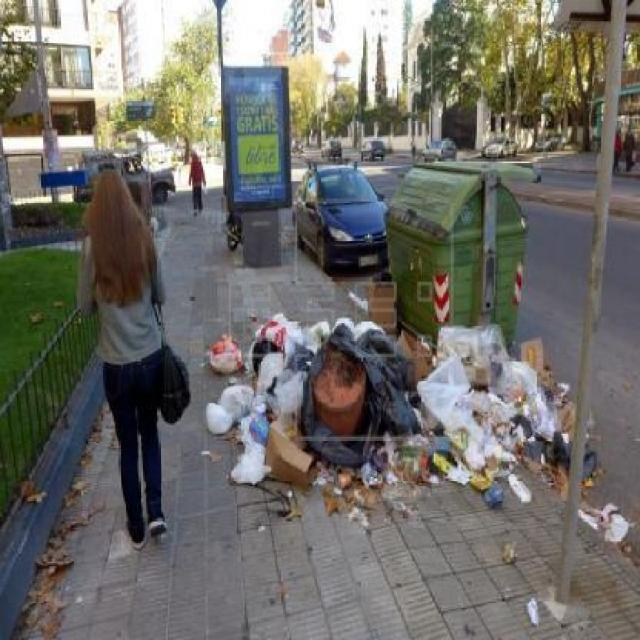garbage: (200, 309, 633, 548), (26, 502, 76, 631), (351, 274, 398, 311), (520, 586, 554, 630)
